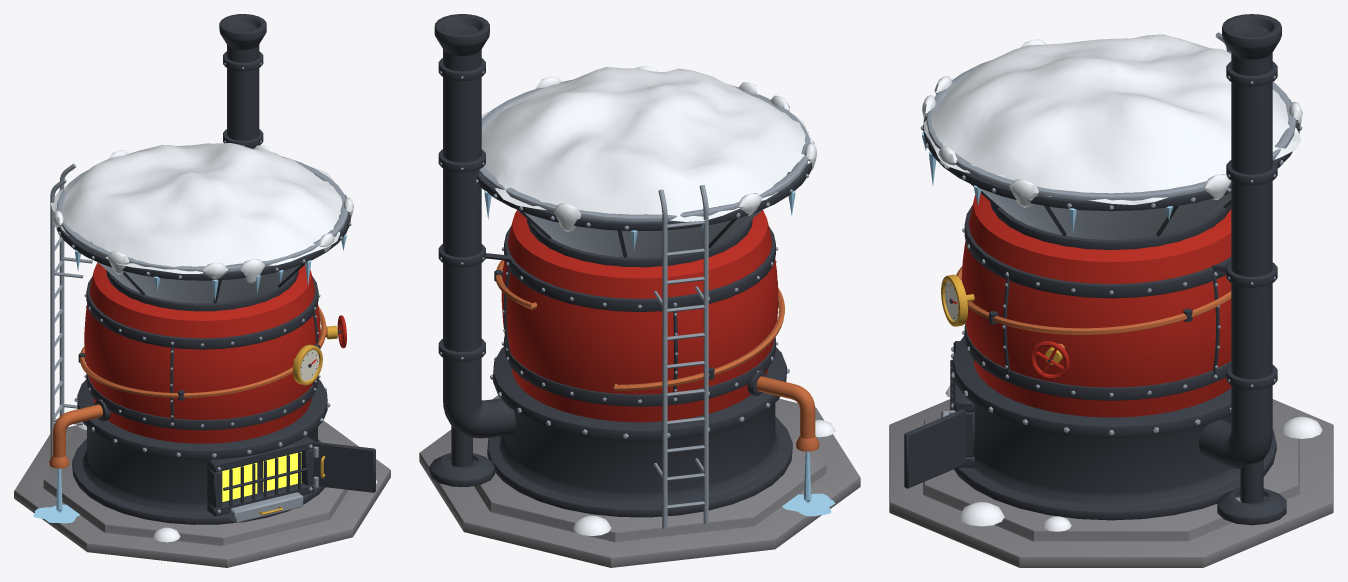
File: snowmelter.fbx
3 views of the same model, side by side, from view 1: azimuth 30°, elevation 25°; view 2: azimuth 150°, elevation 25°; view 3: azimuth 270°, elevation 25° (orthographic). The views are drawn at different scales.
Parts seen in each view (by area): view 1: Melter_Iron, Melter_Snow, Melter_RedPaint, Melter_Concrete, Melter_Steel, Melter_Copper, Melter_Fire, Melter_Ice, Melter_Brass; view 2: Melter_Iron, Melter_Snow, Melter_RedPaint, Melter_Concrete, Melter_Steel, Melter_Copper, Melter_Ice; view 3: Melter_Iron, Melter_Snow, Melter_RedPaint, Melter_Concrete, Melter_Steel, Melter_Copper, Melter_Brass.
Part boxes in pixels (x1=…): Melter_Iron: x1=54, y1=14, x2=375, y2=524; Melter_Snow: x1=50, y1=143, x2=377, y2=542; Melter_RedPaint: x1=84, y1=262, x2=346, y2=443; Melter_Concrete: x1=14, y1=420, x2=390, y2=567; Melter_Steel: x1=50, y1=62, x2=351, y2=522; Melter_Copper: x1=49, y1=306, x2=327, y2=468; Melter_Fire: x1=222, y1=452, x2=301, y2=501; Melter_Ice: x1=33, y1=234, x2=346, y2=523; Melter_Brass: x1=258, y1=325, x2=337, y2=515; Melter_Iron: x1=429, y1=14, x2=812, y2=517; Melter_Snow: x1=481, y1=66, x2=835, y2=535; Melter_RedPaint: x1=501, y1=210, x2=778, y2=422; Melter_Concrete: x1=419, y1=395, x2=860, y2=567; Melter_Steel: x1=440, y1=71, x2=815, y2=528; Melter_Copper: x1=495, y1=260, x2=819, y2=451; Melter_Ice: x1=484, y1=190, x2=835, y2=516; Melter_Iron: x1=904, y1=14, x2=1299, y2=525; Melter_Snow: x1=922, y1=34, x2=1322, y2=531; Melter_RedPaint: x1=962, y1=193, x2=1231, y2=417; Melter_Concrete: x1=889, y1=399, x2=1333, y2=567; Melter_Steel: x1=920, y1=32, x2=1302, y2=435; Melter_Copper: x1=956, y1=266, x2=1231, y2=356; Melter_Brass: x1=941, y1=274, x2=1063, y2=364.
Size of the model in its own units: 11.11 by 13.4 by 10.62.
